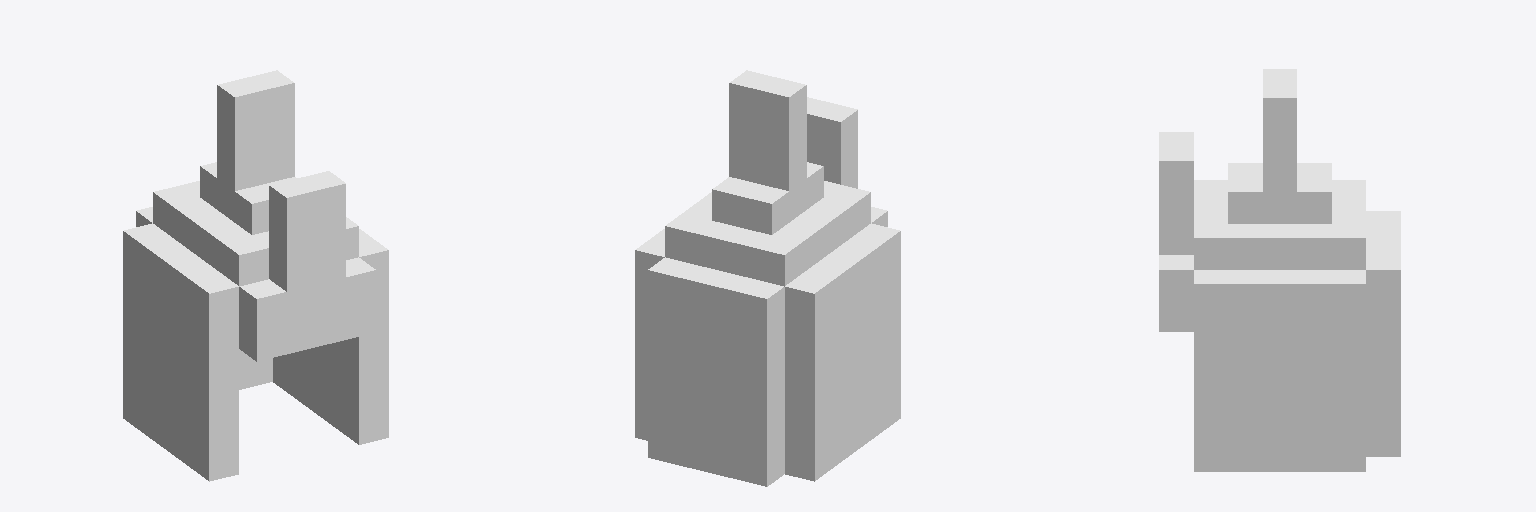
File: char-168-helm_med_1c_sh.obj
3 views of the same model, side by side, from view 1: azimuth 30°, elevation 25°; view 2: azimuth 150°, elevation 25°; view 3: azimuth 270°, elevation 25° (orthographic).
Visible parts, largest first — view 1: helm_med_1c_sh; view 2: helm_med_1c_sh; view 3: helm_med_1c_sh.
Part boxes in pixels (x1,y1,x2,y2): helm_med_1c_sh: (123,70,388,481); helm_med_1c_sh: (635,70,900,486); helm_med_1c_sh: (1159,69,1400,471).
Size of the model in its own units: 0.6 by 1.1 by 0.7.